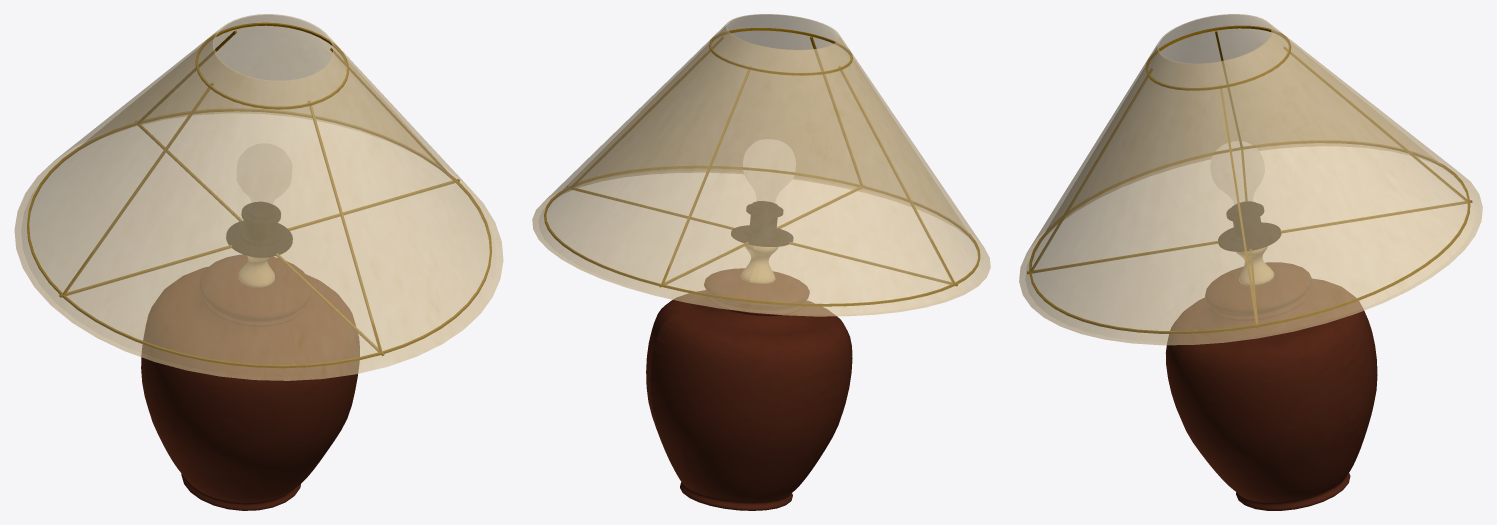
Rendered from lmp005.obj.
The picture shows the model from 3 angles, left to right: view 1: azimuth 30°, elevation 25°; view 2: azimuth 150°, elevation 25°; view 3: azimuth 270°, elevation 25°; orthographic projection. The views are drawn at different scales.
Parts seen in each view (by area): view 1: lmp005; view 2: lmp005; view 3: lmp005.
Boxes of the visible parts, box(x1,y1,x2,y2) form: lmp005: box(14, 14, 503, 510); lmp005: box(532, 14, 990, 510); lmp005: box(1019, 14, 1482, 510).
Bounding box in the file's own units: 342 × 369 × 337.
6 materials, 3 textured.
